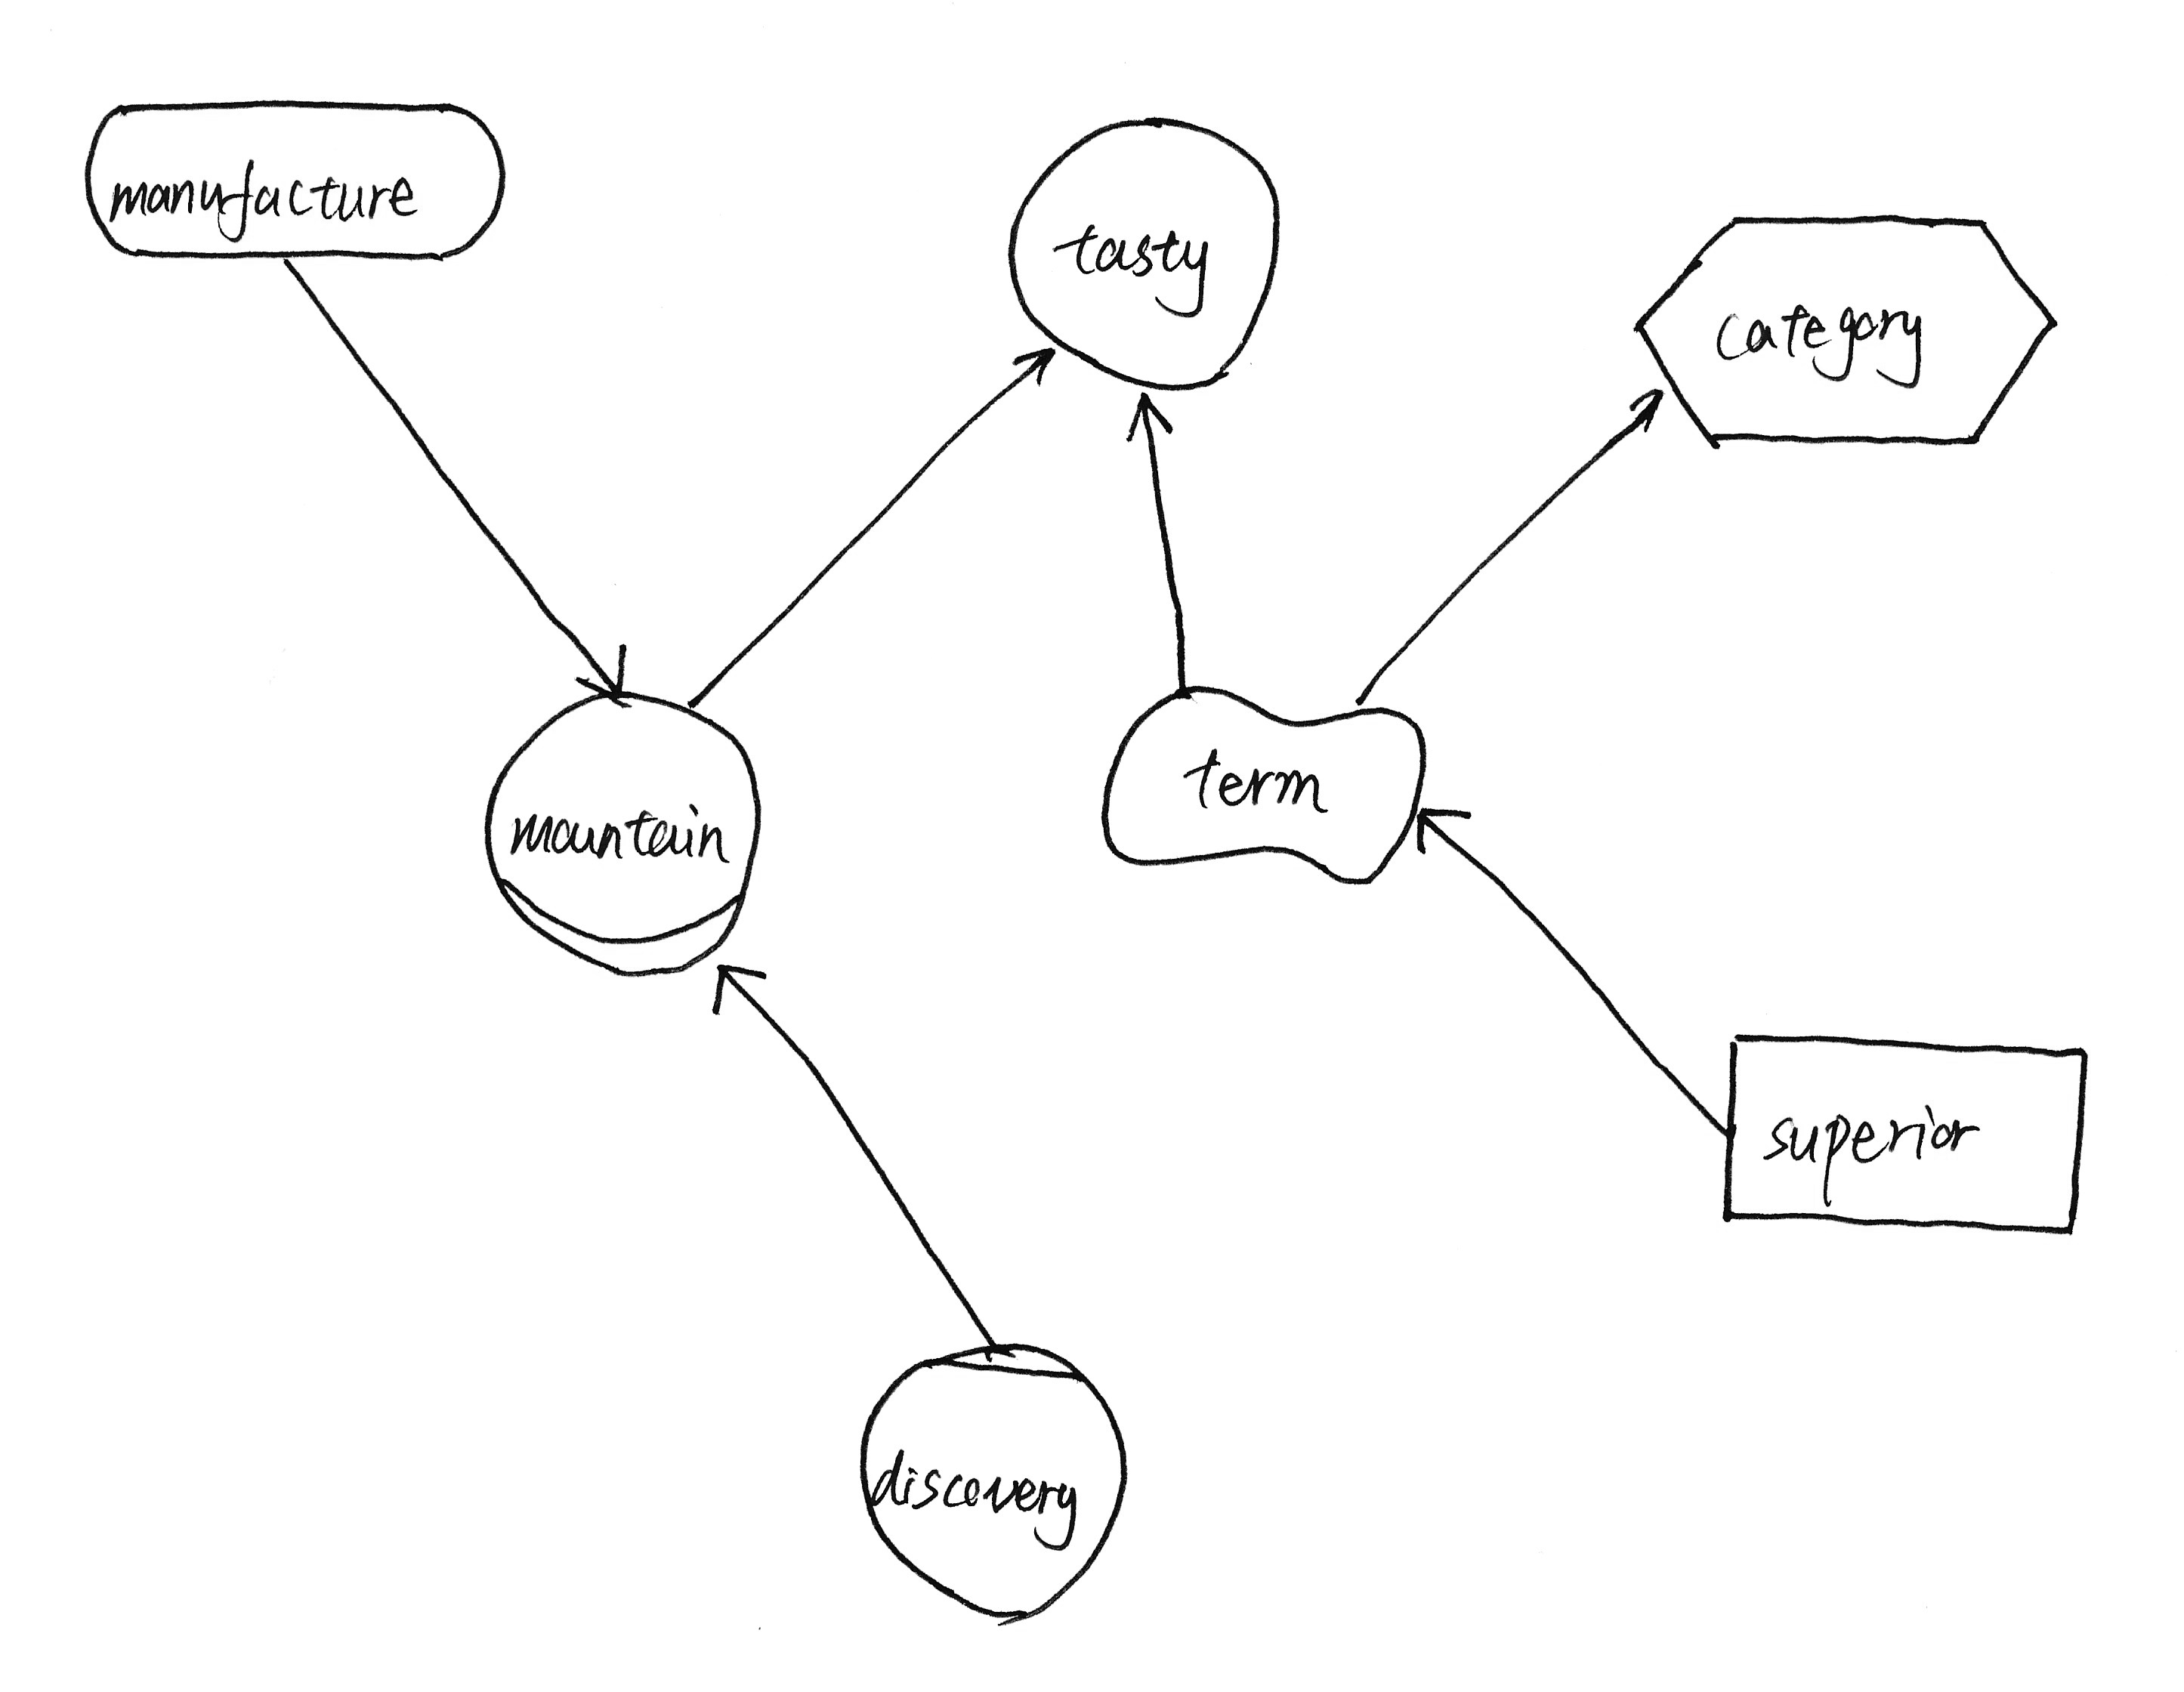actor: (996, 99, 1289, 418)
agent: (846, 1331, 1136, 1635)
arrow: (569, 633, 640, 714), (702, 953, 778, 1028), (1113, 383, 1189, 452), (1617, 372, 1677, 455), (1408, 797, 1482, 865), (998, 331, 1069, 400)
goal: (73, 80, 518, 276)
quality: (1088, 675, 1438, 896)
resource: (1700, 1015, 2108, 1258)
role: (472, 680, 773, 990)
task: (1613, 195, 2076, 471)
